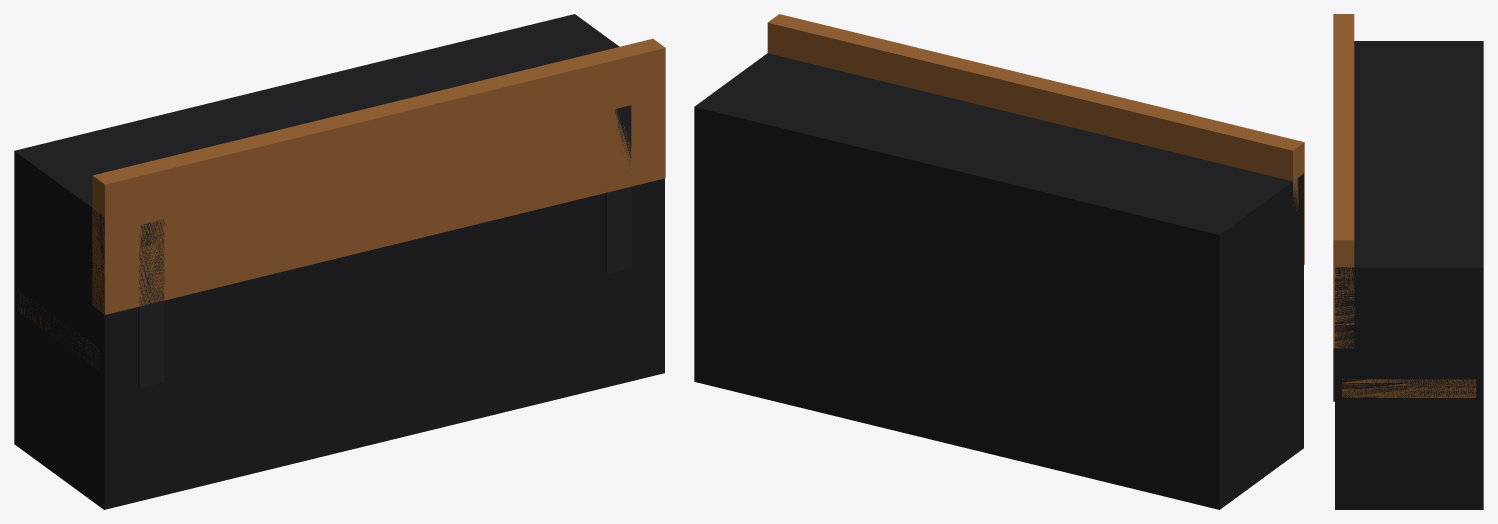
Rendered from env_pbg_bench.fbx.
3 renders of one model, left to right at view 1: azimuth 30°, elevation 25°; view 2: azimuth 150°, elevation 25°; view 3: azimuth 270°, elevation 25°, orthographic. The views are drawn at different scales.
Parts seen in each view (by area): view 1: COL_env_pbg_bench, env_pbg_bench_geo; view 2: COL_env_pbg_bench, env_pbg_bench_geo; view 3: COL_env_pbg_bench, env_pbg_bench_geo.
Boxes of the visible parts, x1,y1,x2,y2 form: COL_env_pbg_bench: (14,14,664,509); env_pbg_bench_geo: (18,38,665,387); COL_env_pbg_bench: (694,53,1303,509); env_pbg_bench_geo: (767,14,1304,264); COL_env_pbg_bench: (1335,41,1483,509); env_pbg_bench_geo: (1333,14,1476,401).
Size of the model in its own units: 1.8 by 1.01 by 0.505.
